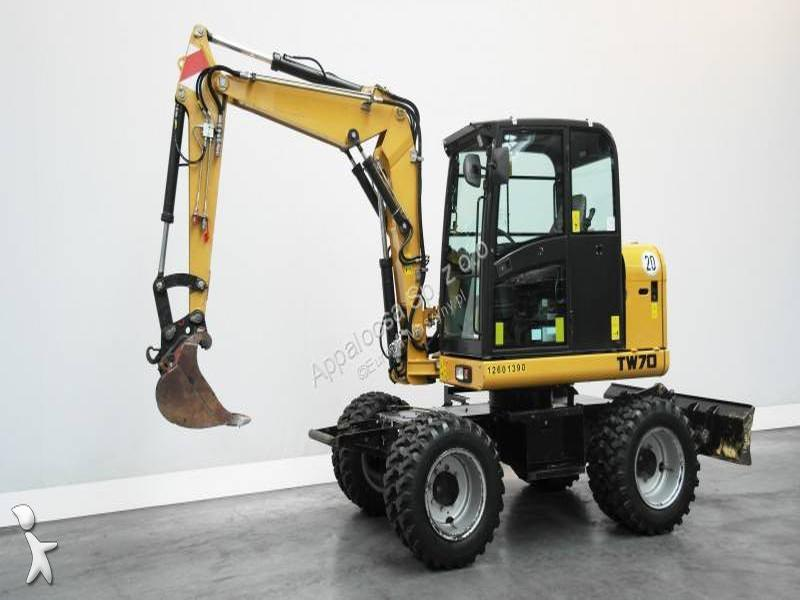shovel: (130, 18, 760, 569)
